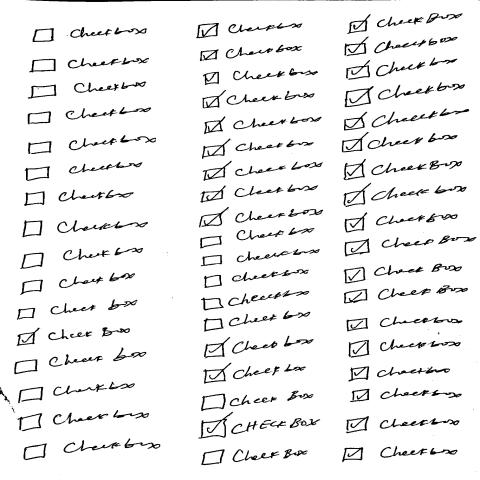Check Box: (13, 347, 147, 375), (343, 81, 466, 108), (199, 412, 320, 439), (342, 182, 467, 207), (22, 438, 161, 460), (342, 156, 462, 181), (20, 246, 143, 270), (18, 409, 150, 431), (16, 380, 136, 404), (26, 133, 156, 155), (342, 109, 470, 131), (343, 235, 477, 256), (347, 11, 463, 35), (19, 271, 135, 295), (202, 158, 323, 181), (345, 56, 459, 80), (199, 226, 315, 249), (203, 335, 314, 359), (16, 299, 137, 321), (343, 262, 463, 284), (341, 131, 459, 153), (26, 105, 153, 125), (200, 137, 314, 159), (200, 390, 314, 412), (202, 114, 321, 135), (200, 88, 316, 109), (21, 219, 149, 238), (26, 80, 146, 100), (200, 247, 319, 267), (202, 289, 310, 311), (203, 310, 311, 332), (343, 285, 468, 304), (25, 161, 142, 181), (202, 362, 306, 384), (343, 36, 457, 56), (344, 212, 458, 232), (16, 326, 130, 346), (202, 267, 310, 288), (201, 67, 318, 86), (344, 415, 460, 434), (346, 339, 460, 358), (28, 56, 151, 73), (22, 189, 134, 207), (30, 26, 148, 43), (198, 43, 302, 62), (199, 448, 308, 466), (341, 446, 458, 462), (349, 387, 462, 403), (346, 316, 463, 331), (194, 22, 303, 38), (348, 365, 449, 382)
